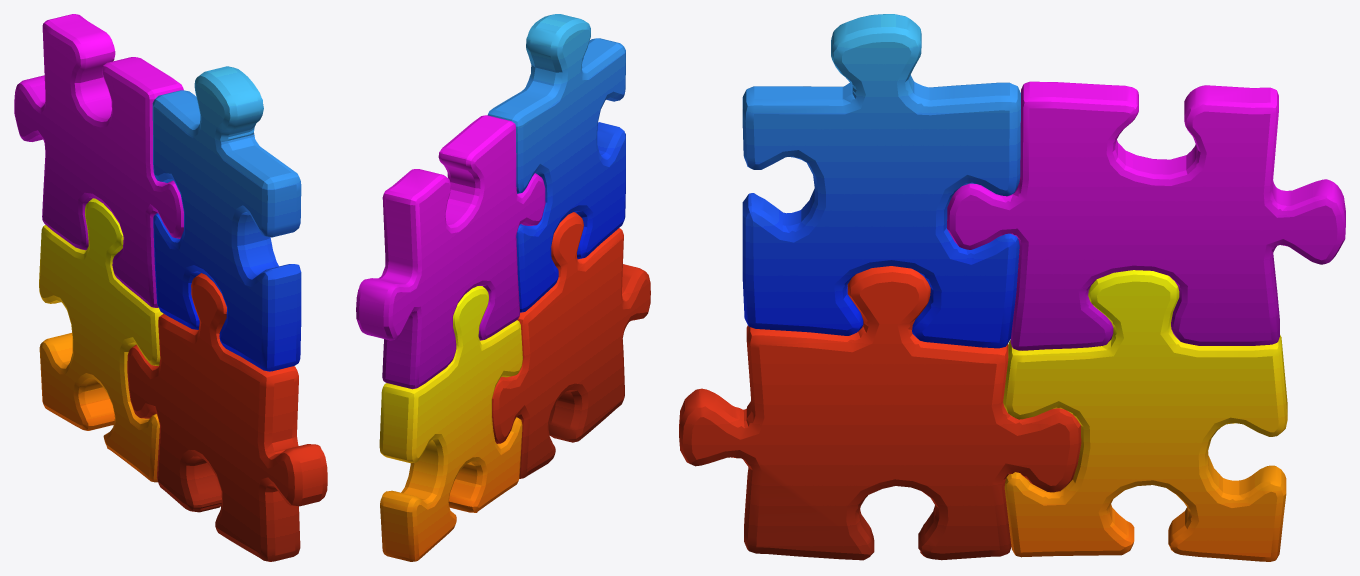
File: puzzle.glb
3 renders of one model, left to right at view 1: azimuth 30°, elevation 25°; view 2: azimuth 150°, elevation 25°; view 3: azimuth 270°, elevation 25°, orthographic. The views are drawn at different scales.
Visible parts, largest first — view 1: BezierCircle.020, BezierCircle.008, BezierCircle.019, BezierCircle.007; view 2: BezierCircle.019, BezierCircle.020, BezierCircle.007, BezierCircle.008; view 3: BezierCircle.008, BezierCircle.019, BezierCircle.020, BezierCircle.007.
Part boxes in pixels (x1,y1,x2,y2): BezierCircle.020: (152, 66, 301, 371); BezierCircle.008: (127, 273, 327, 561); BezierCircle.019: (14, 14, 183, 307); BezierCircle.007: (39, 198, 163, 482); BezierCircle.019: (356, 115, 545, 389); BezierCircle.020: (488, 14, 625, 312); BezierCircle.007: (379, 286, 522, 561); BezierCircle.008: (492, 212, 650, 478); BezierCircle.008: (679, 266, 1081, 560); BezierCircle.019: (947, 81, 1345, 350); BezierCircle.020: (742, 14, 1020, 348); BezierCircle.007: (1003, 270, 1287, 561).
Size of the model in its own units: 0.6491 by 7.21 by 8.17.
Materials: 1 (1 with a texture image).
